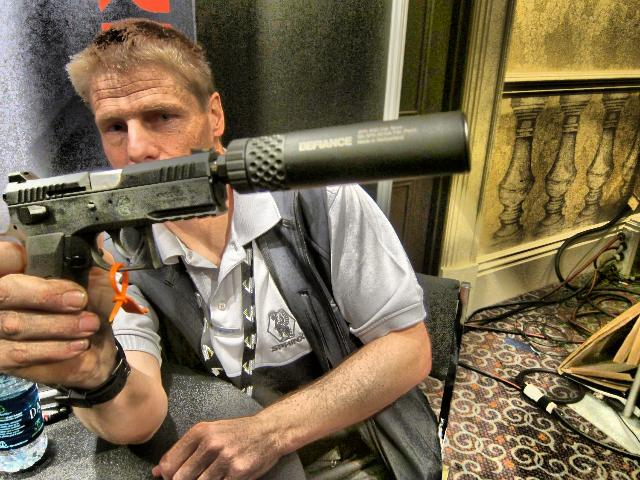pistol: (3, 144, 228, 294)
